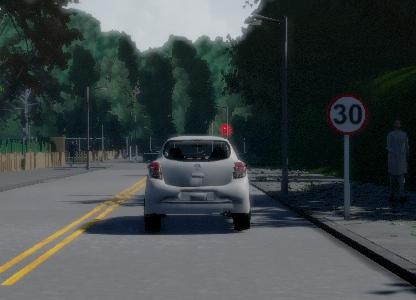Speed_30: (323, 90, 371, 137)
